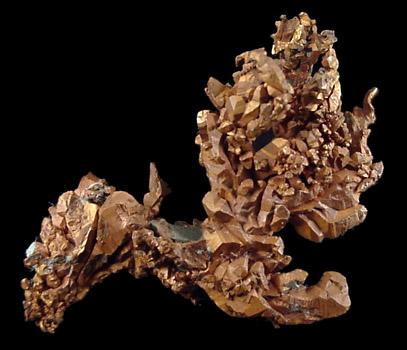copper: (22, 13, 384, 332)
